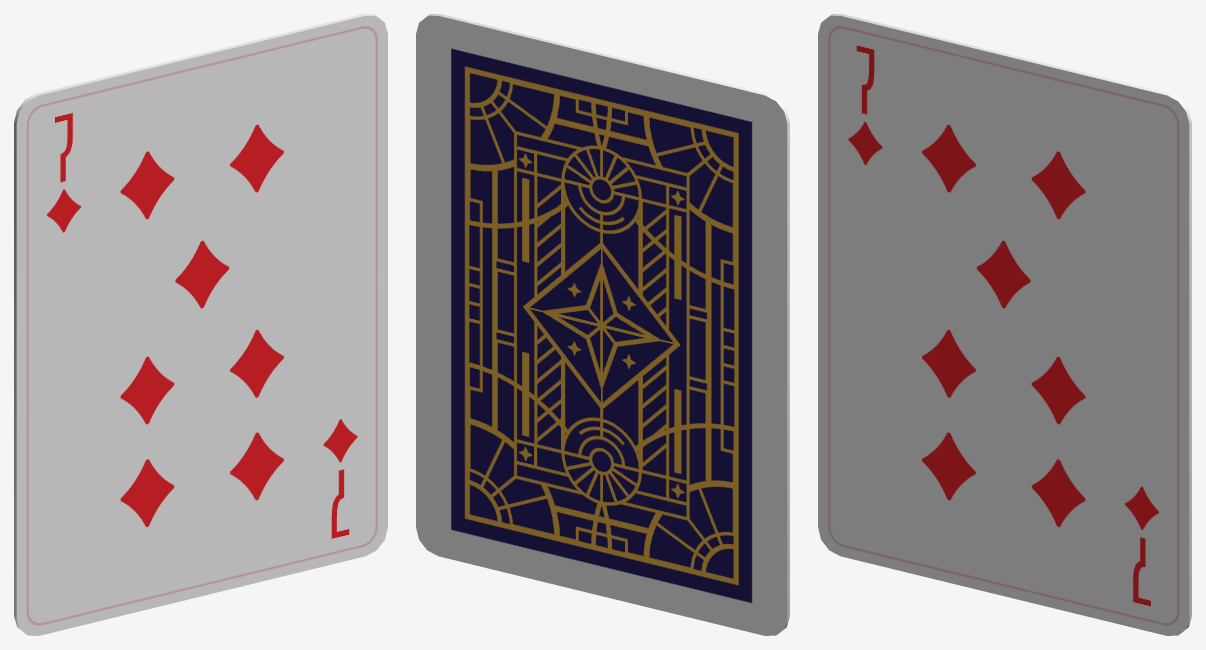
File: card_diamonds_seven.obj
3 views of the same model, side by side, from view 1: azimuth 30°, elevation 25°; view 2: azimuth 150°, elevation 25°; view 3: azimuth 330°, elevation 25° (orthographic).
Visible parts, largest first — view 1: card_diamonds_seven; view 2: card_diamonds_seven; view 3: card_diamonds_seven.
Part boxes in pixels (bbox=[...]): card_diamonds_seven: bbox=[14, 14, 387, 635]; card_diamonds_seven: bbox=[416, 14, 789, 635]; card_diamonds_seven: bbox=[818, 14, 1191, 635].
Size of the model in its own units: 4.31 by 6 by 0.05.
2 materials, 2 textured.
